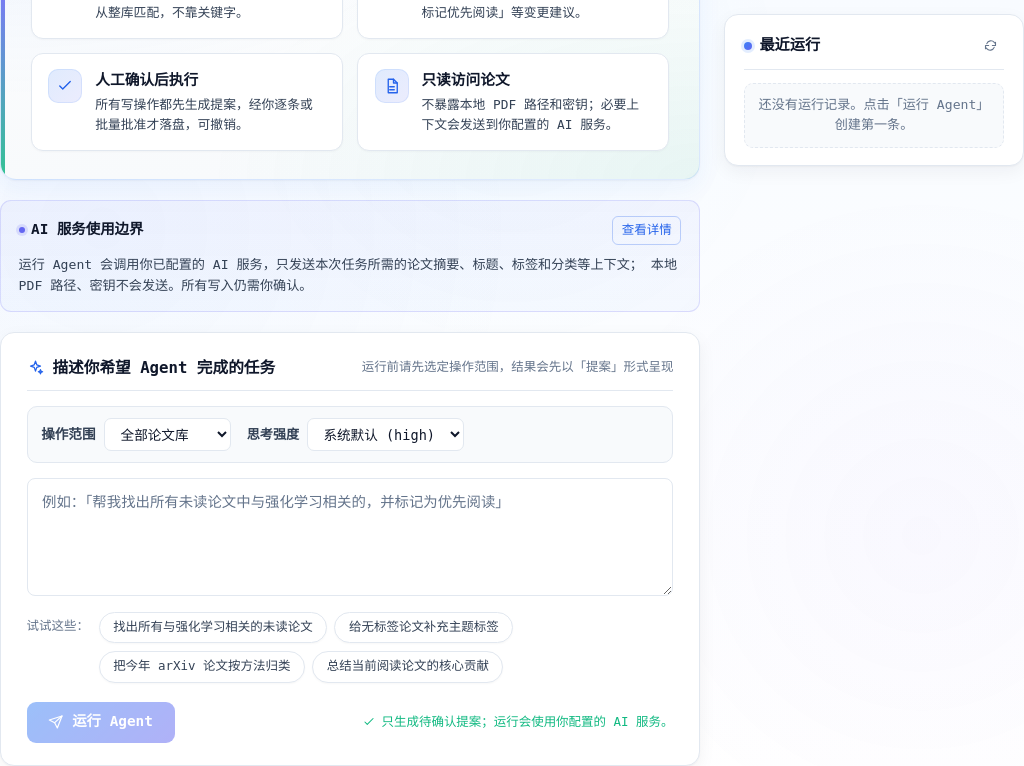
Scenario: shows error on run failure
(page scrolled)
Type "test" into the text box named "Agent 提示词" at (350, 537), box [27, 478, 673, 596]
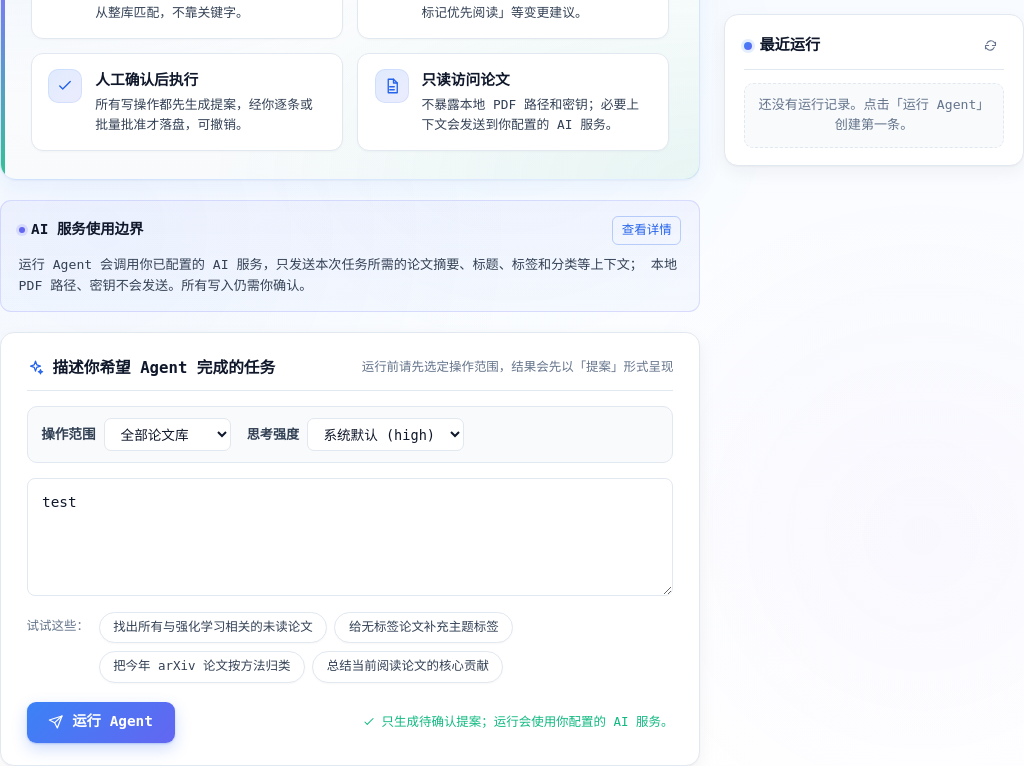
Click the button "运行 Agent" at (101, 722), box [27, 702, 175, 742]
(page scrolled)
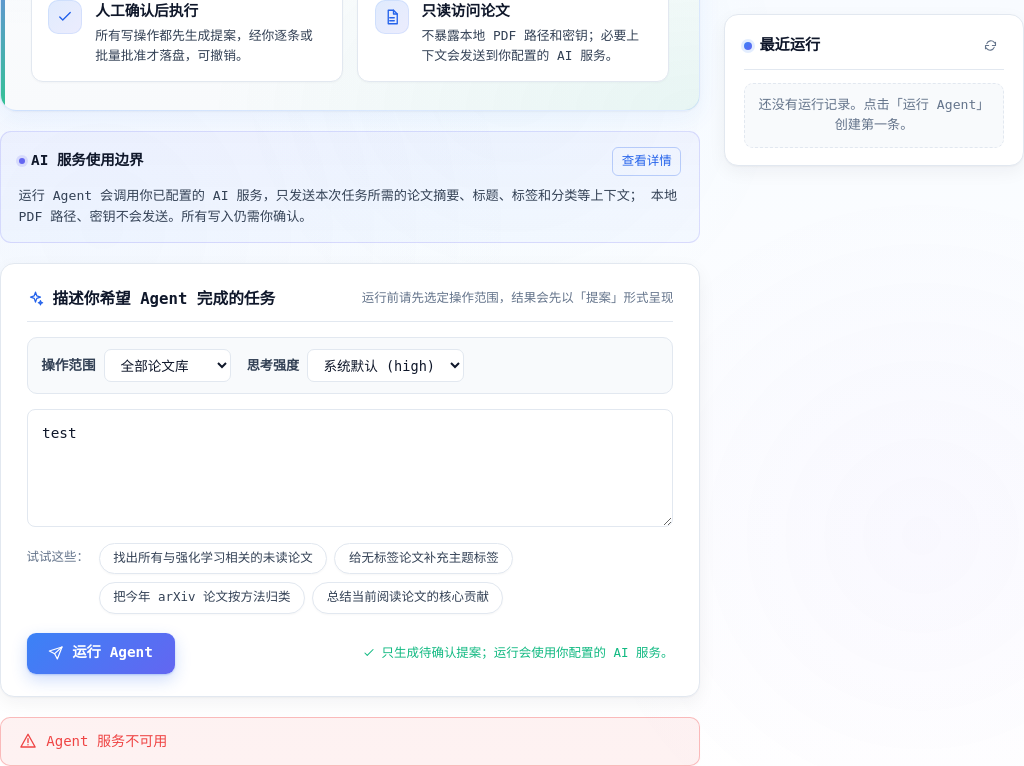
Now the text "Agent 服务不可用" is shown, box [46, 731, 168, 752]
